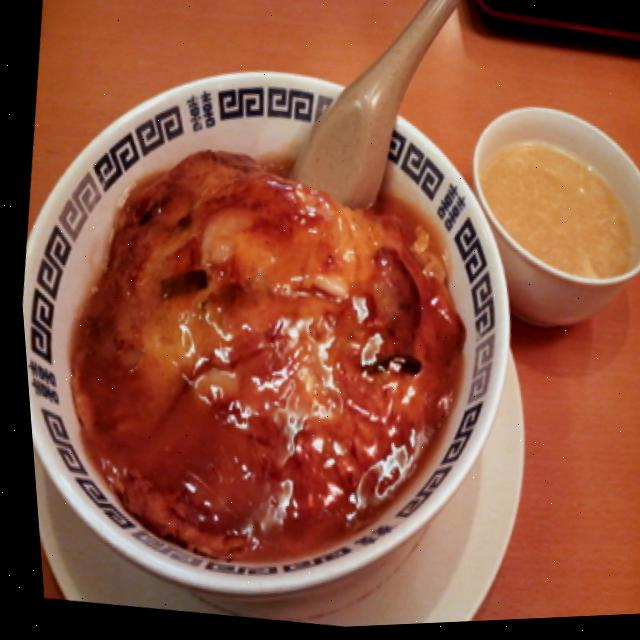面条主食: (7, 103, 500, 622)
